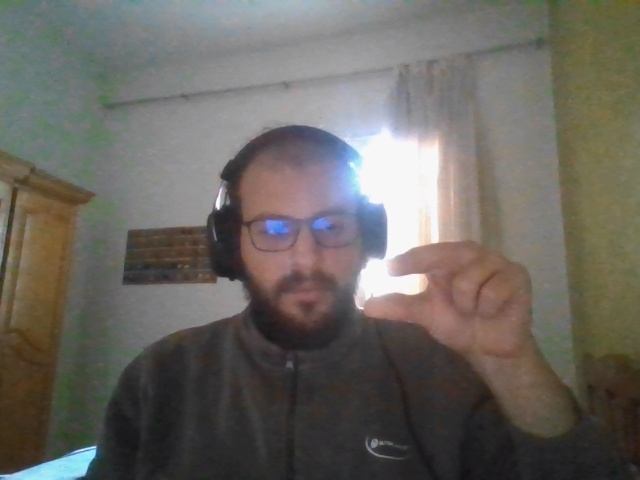No: (366, 244, 532, 359)
